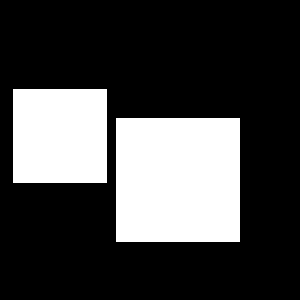circle: (116, 118, 240, 242), (13, 89, 107, 183)
